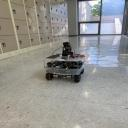cart: (43, 54, 85, 82)
